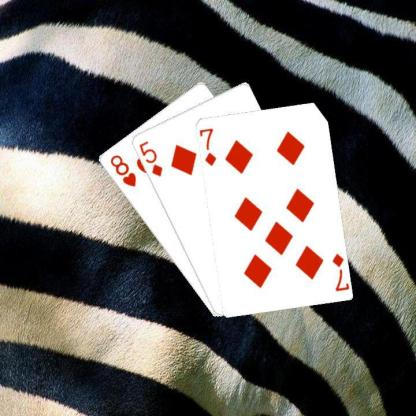5D: (136, 138, 163, 178)
7D: (198, 125, 217, 167), (329, 251, 348, 292)
8H: (107, 152, 137, 188)
